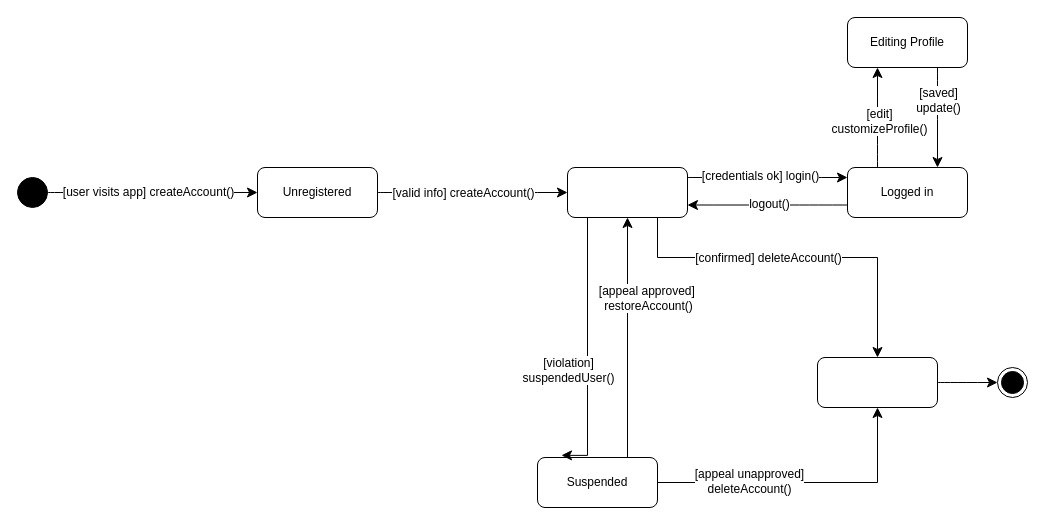
Some shapes in this 1045 by 525 pixel diagram are drawn without their labels. The box of each missing label's shape, as (x1, y1, x2, y2) in pixels:
Active: (566, 166, 688, 218)
Deleted: (816, 356, 938, 408)
